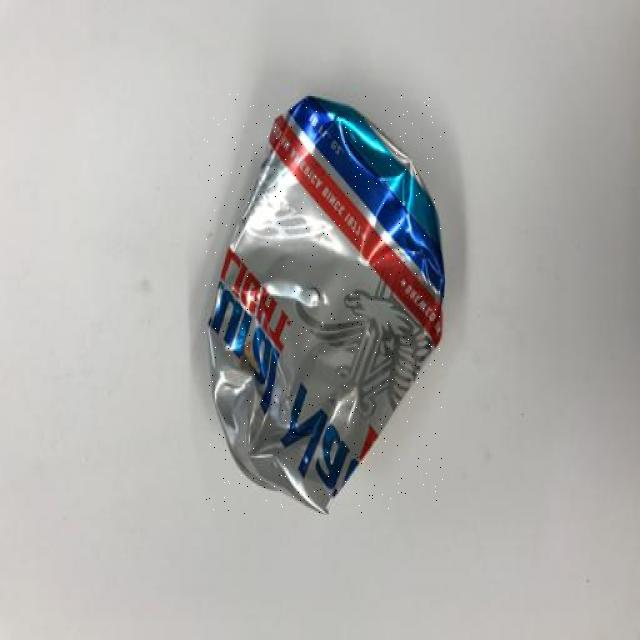metal: (204, 94, 446, 514)
